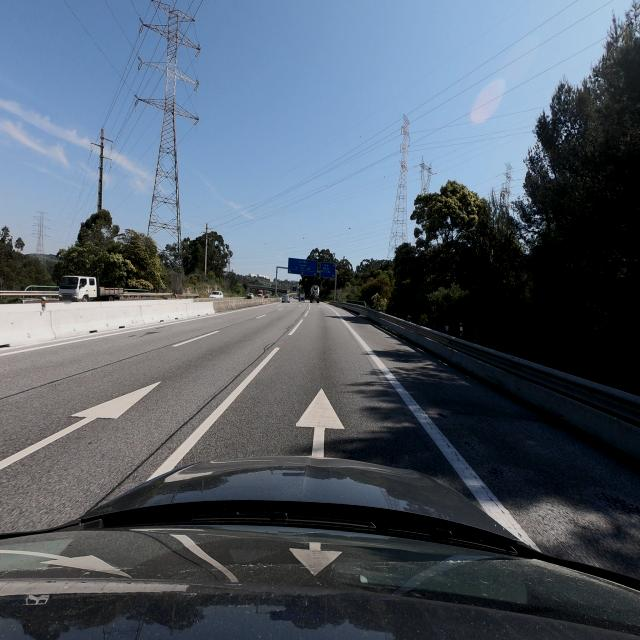car: (58, 275, 100, 301), (210, 289, 224, 298)
